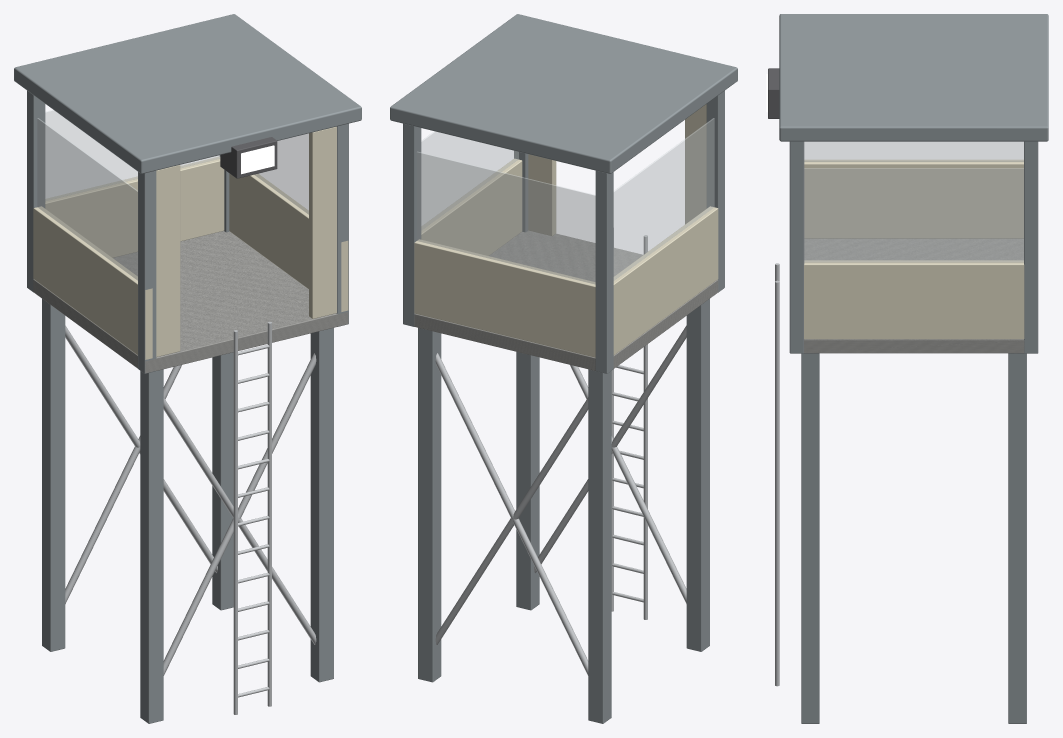
The model's file is prison-complex-builder-guard-tower-e11a7eb9__25634.glb.
3 renders of one model, left to right at view 1: azimuth 30°, elevation 25°; view 2: azimuth 150°, elevation 25°; view 3: azimuth 270°, elevation 25°, orthographic. The views are drawn at different scales.
Parts seen in each view (by area): view 1: guard-tower; view 2: guard-tower; view 3: guard-tower.
Part boxes in pixels (x1,y1,x2,y2): guard-tower: (14, 14, 361, 723); guard-tower: (390, 14, 737, 723); guard-tower: (766, 14, 1048, 723).
Bounding box in the file's own units: 2.6 × 6.46 × 2.73.
Materials: 7 (1 with a texture image).
